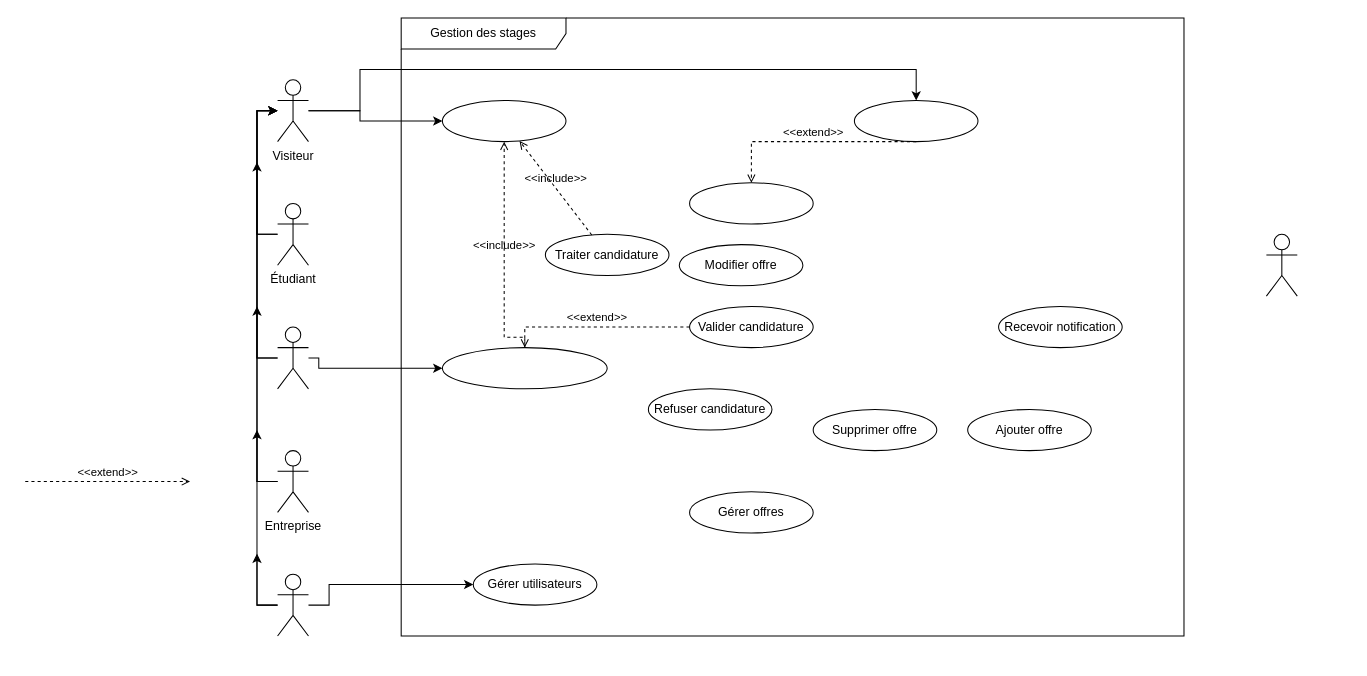
This 1367x676 diagram has some shape labels left out. The shapes that lost their labels are listed below. From the top down, each one's centre as x and y in pixels, then its label:
the point at 503,120: Se connecter
the point at 915,120: Consulter offres
the point at 751,203: Postuler à une offre
the point at 1281,264: Système de notifications
the point at 292,357: Responsable pédagogique
the point at 524,368: Consulter candidatures
the point at 292,604: Administrateur
